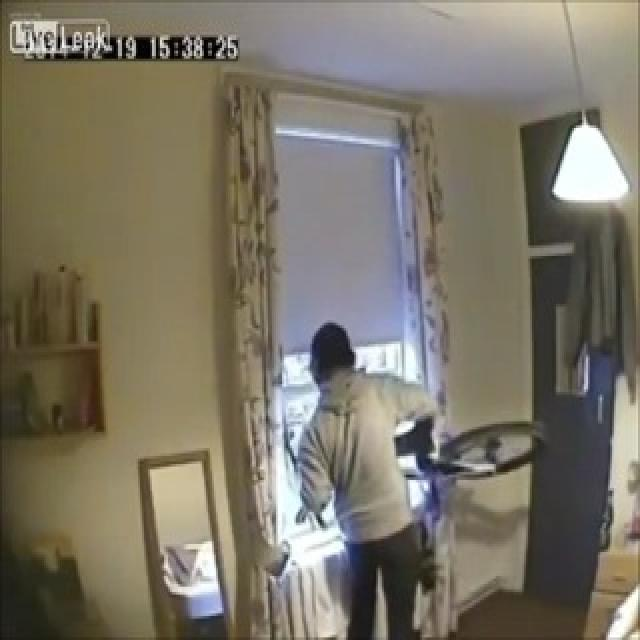thief: (295, 316, 380, 420)
